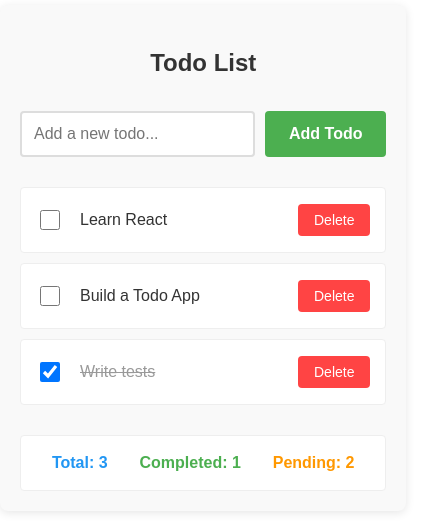
Test: TodoList Component › toggles todo completion status when text is clicked
# Click text to toggle
Click the text with test id "todo-text-1": x=124, y=220 [80,211,167,228]
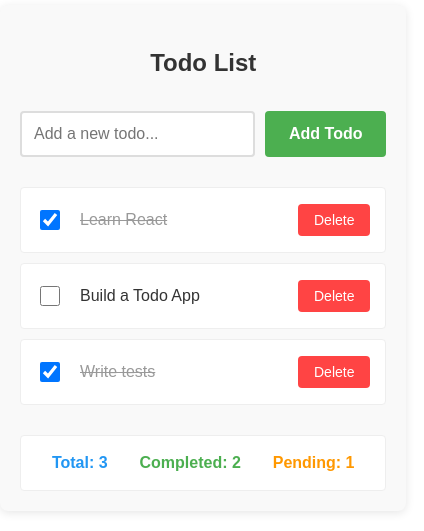
Expected: the checkbox with test id "todo-checkbox-1" is checked, [40,210,60,230]
